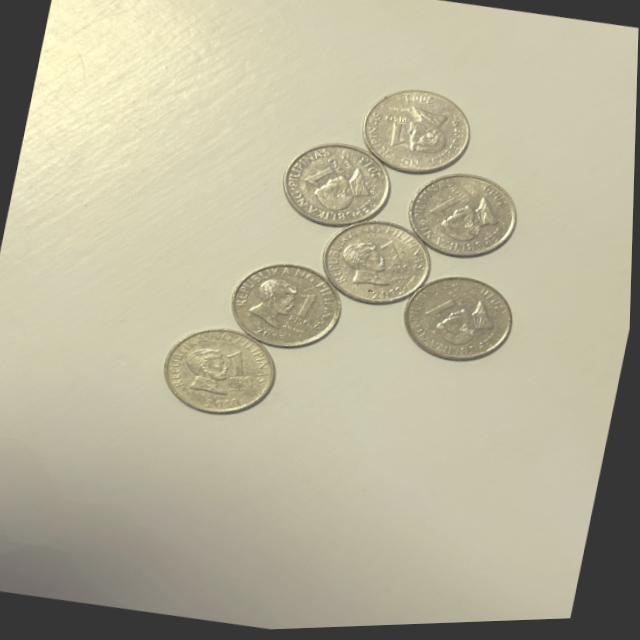1_Old_Front: (219, 346, 265, 397), (374, 110, 415, 158), (430, 186, 475, 228), (375, 239, 416, 285), (426, 290, 471, 329), (285, 293, 326, 334), (302, 157, 347, 194)
